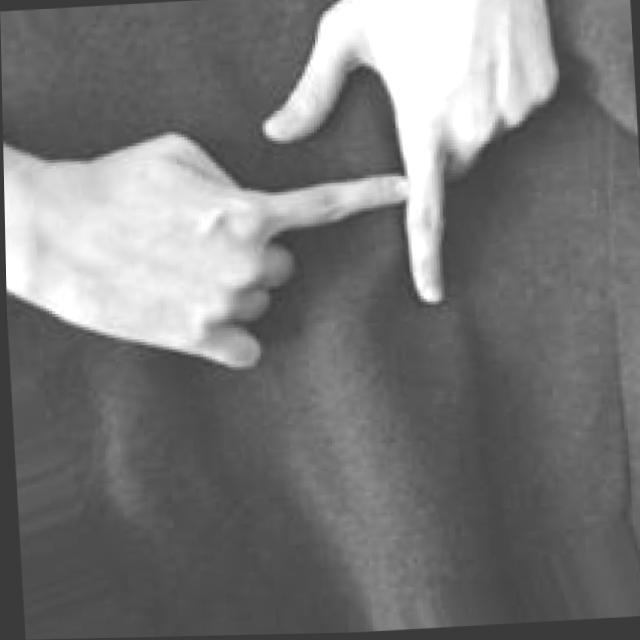F: (64, 0, 571, 378)
